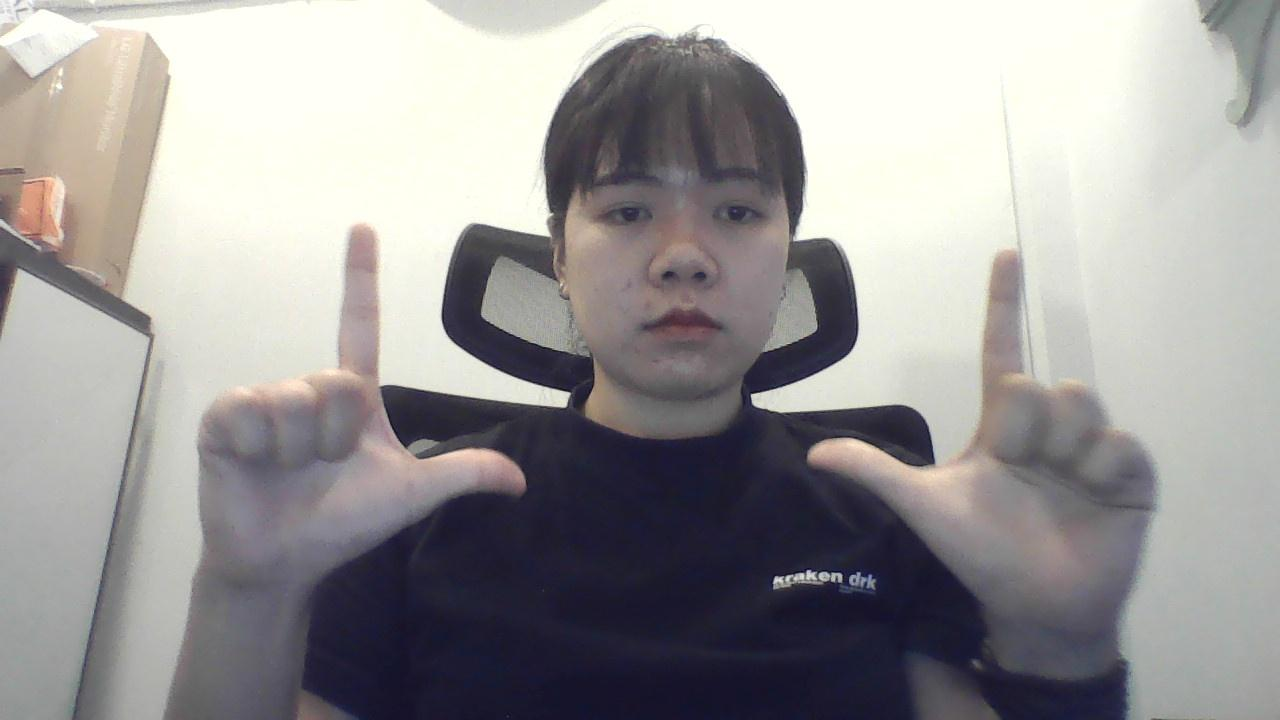L: (157, 207, 530, 618), (804, 247, 1170, 649)
